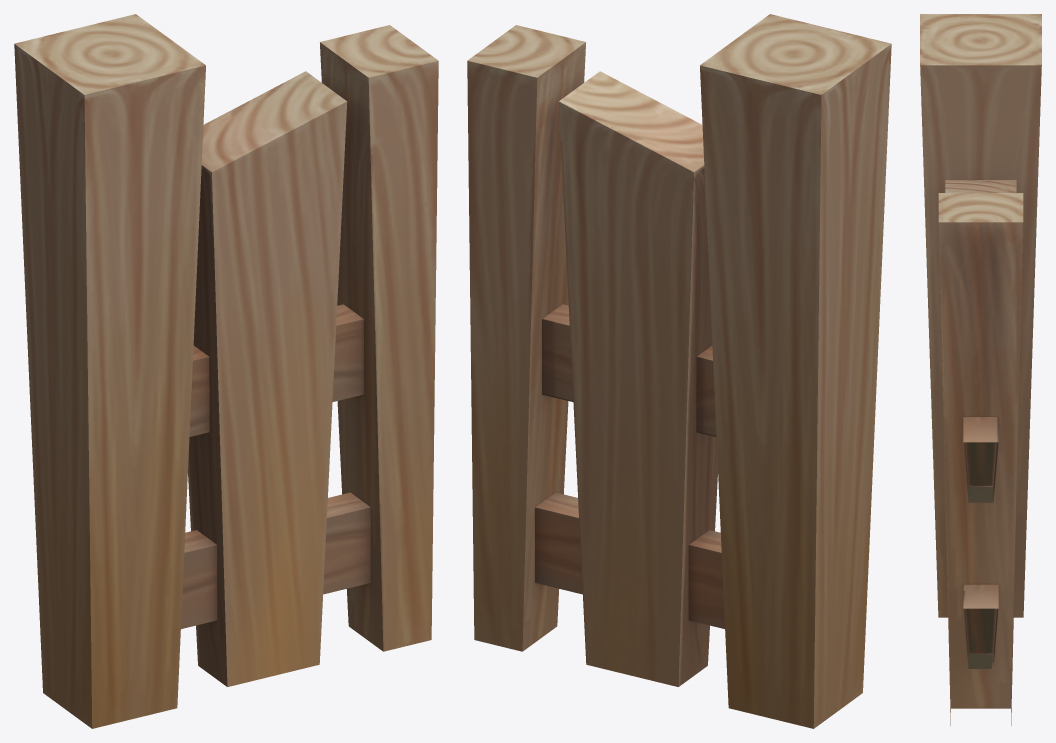
File: fence2_end.FBX
3 renders of one model, left to right at view 1: azimuth 30°, elevation 25°; view 2: azimuth 150°, elevation 25°; view 3: azimuth 270°, elevation 25°, orthographic. The views are drawn at different scales.
Parts seen in each view (by area): view 1: fence2_end; view 2: fence2_end; view 3: fence2_end.
Boxes of the visible parts, bbox=[...] form: fence2_end: bbox=[14, 14, 438, 728]; fence2_end: bbox=[467, 14, 891, 728]; fence2_end: bbox=[920, 14, 1041, 725].
Size of the model in its own units: 30.25 by 50.83 by 10.
1 material, 1 textured.
